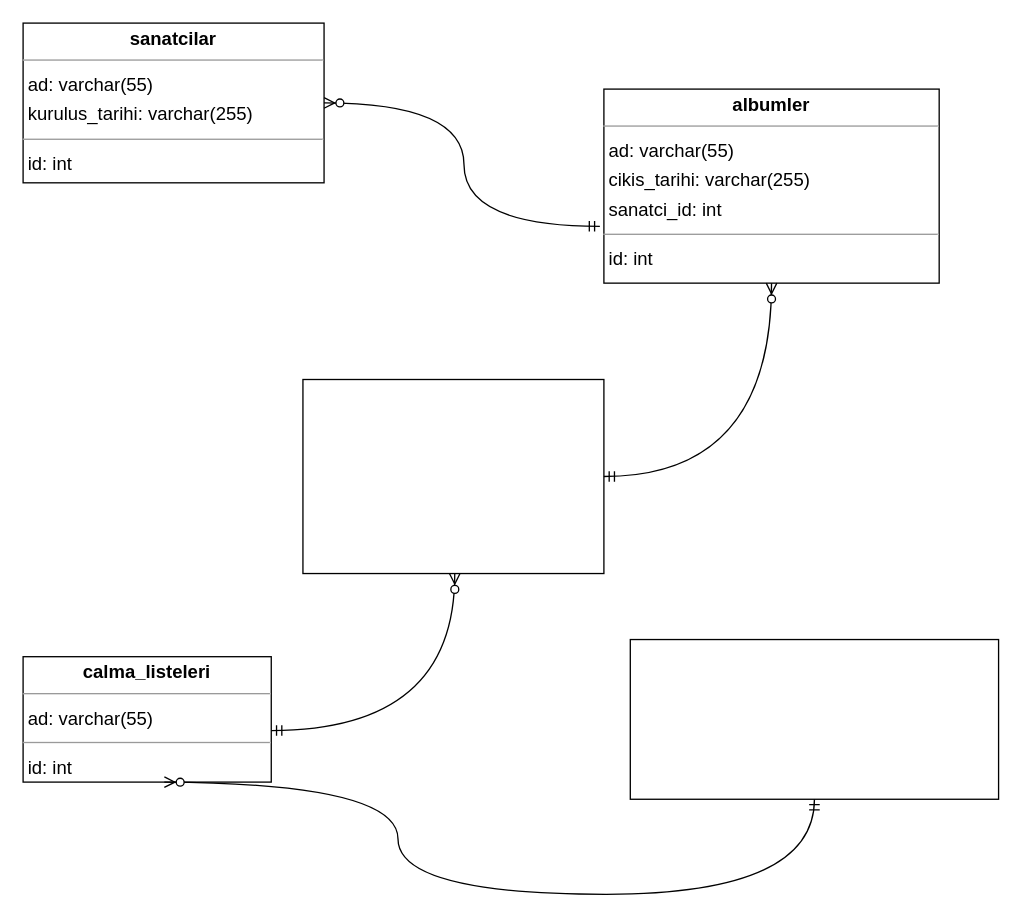
The diagram is 1022 pixels wide and 917 high, and some of its shapes have lost their labels. The shapes that lost their labels are listed below. From the top down, each one's centre as x and y in pixels, then its label:
At (453,476): "sarkilar ad: varchar(55) album_id: int sanatci_id: int id: int".
At (814,718): "calma_listeleri_sarkilari calma_listesi_id: int sarki_id: int id: int".
